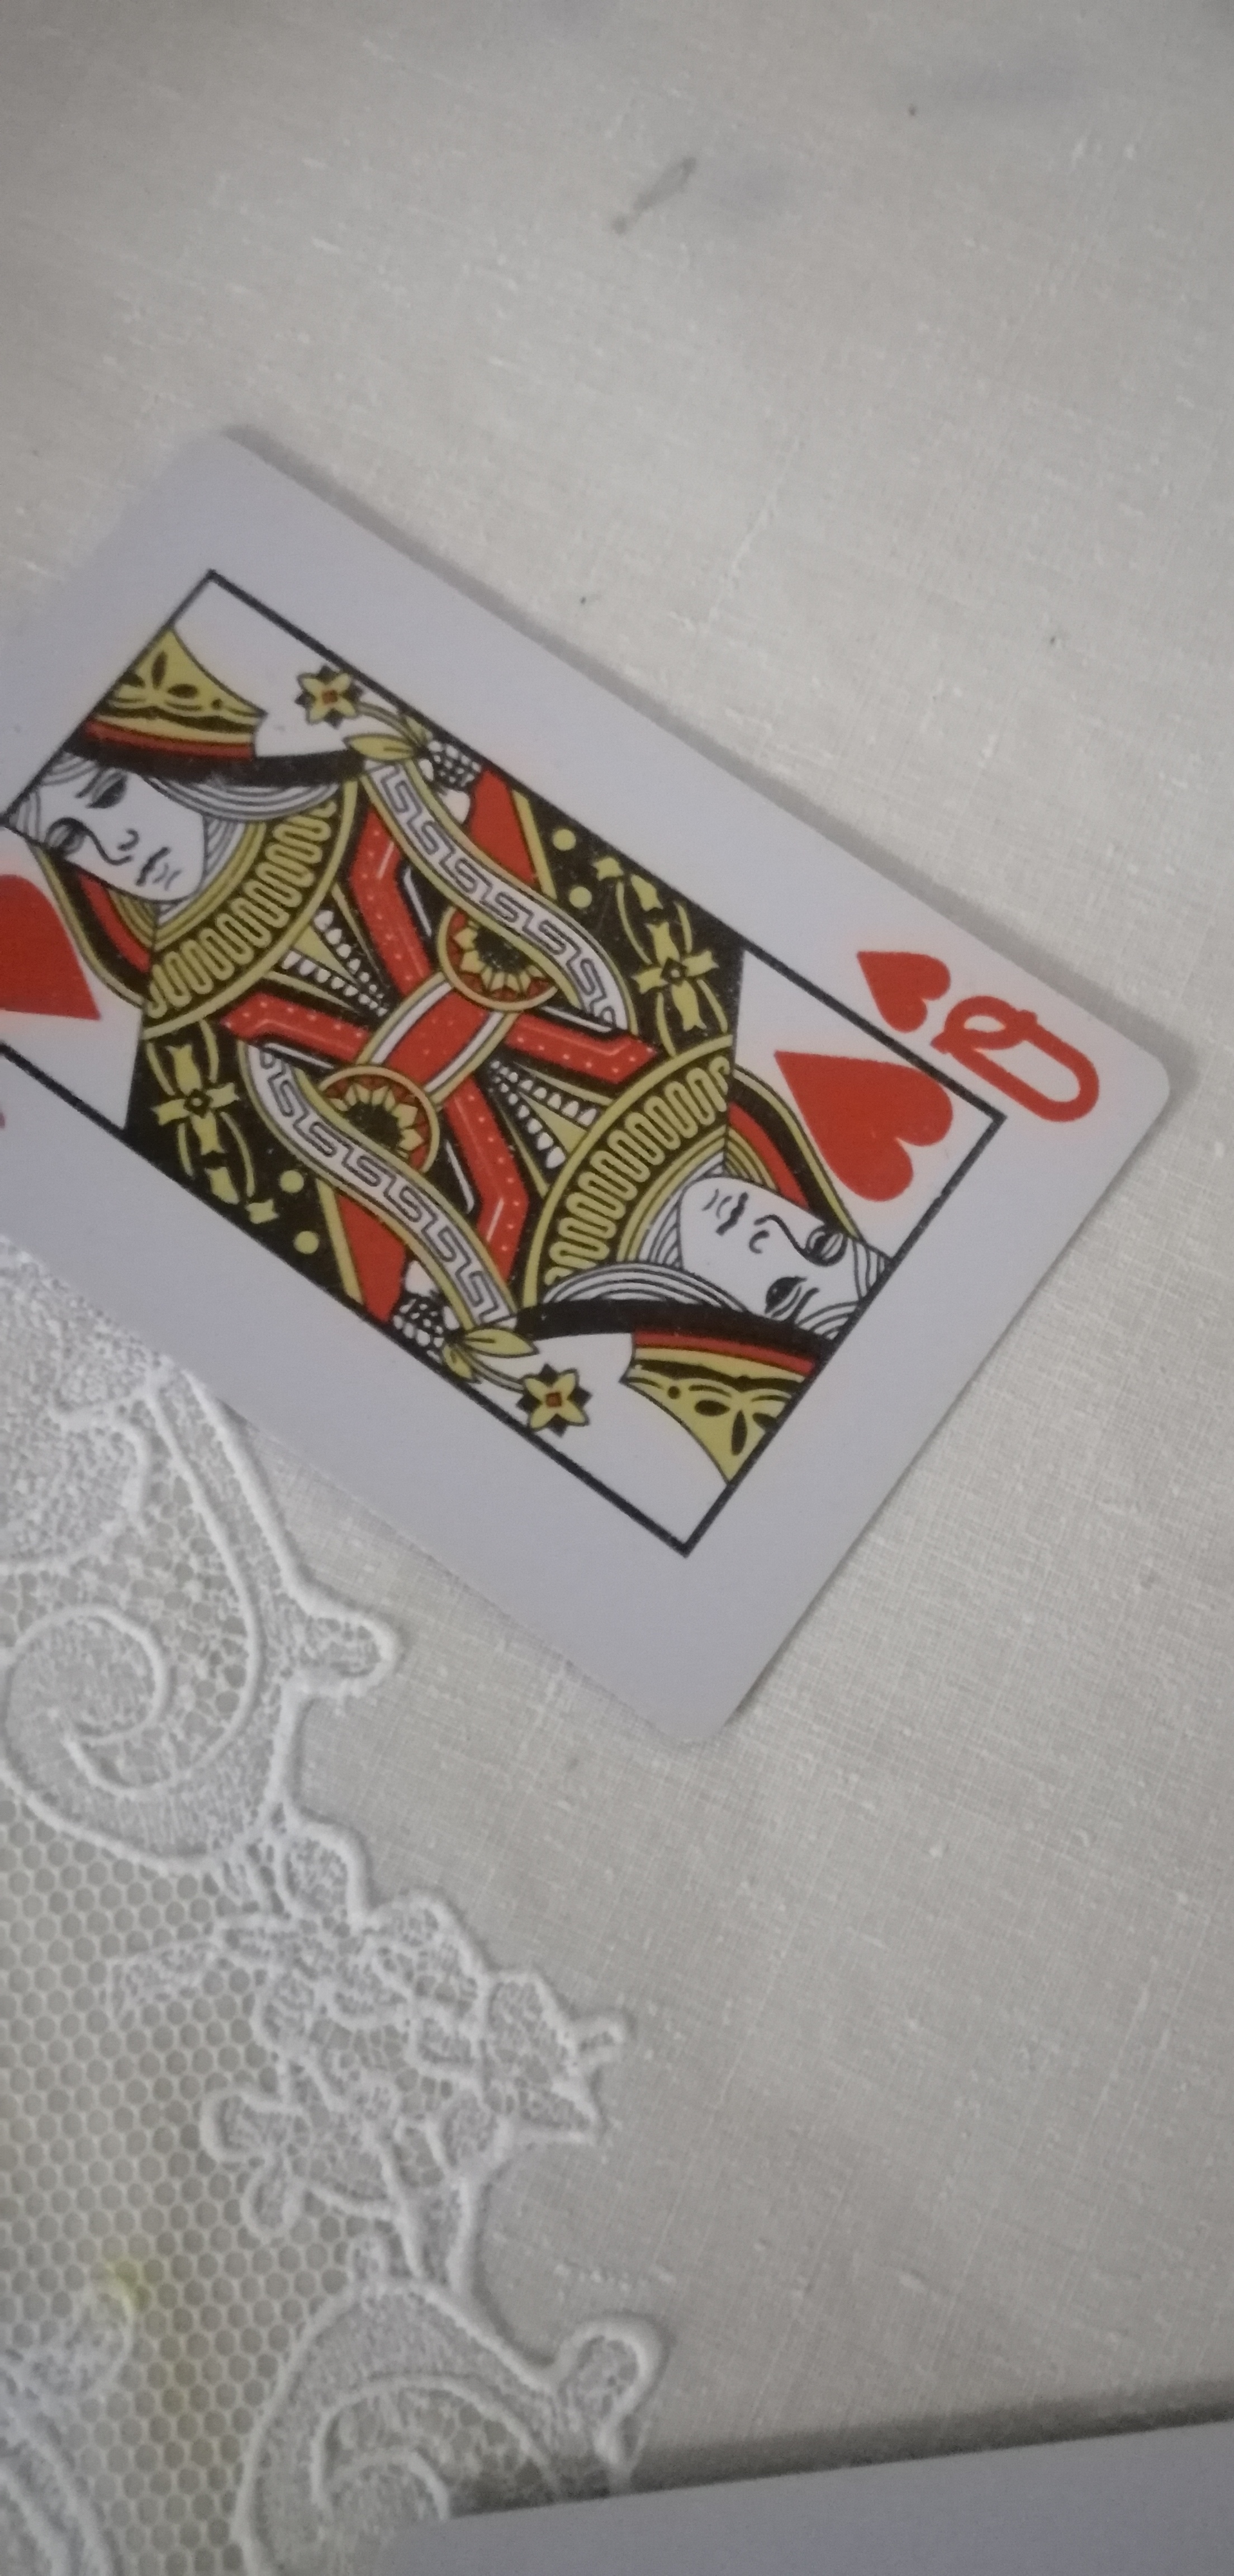queen: (8, 407, 1186, 1668)
